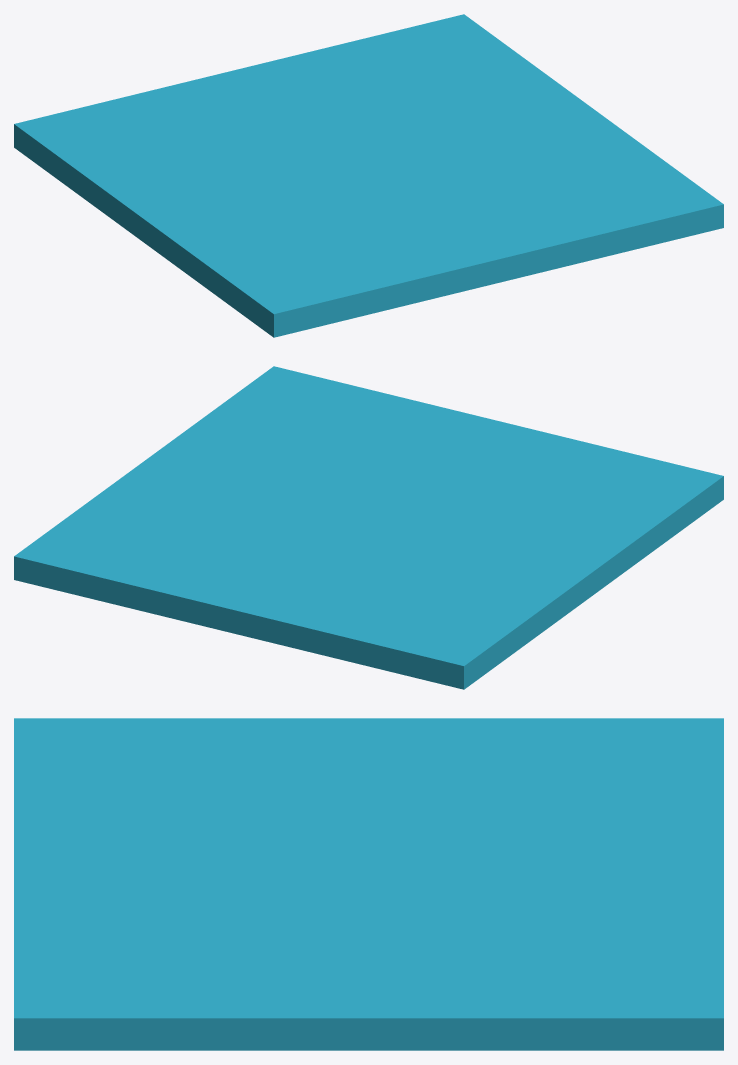
File: GlassWaterFloor.fbx
The picture shows the model from 3 angles, top to bottom: view 1: azimuth 30°, elevation 25°; view 2: azimuth 150°, elevation 25°; view 3: azimuth 270°, elevation 25°; orthographic projection. The views are drawn at different scales.
Visible parts, largest first — view 1: GlassWaterFloor_Complete; view 2: GlassWaterFloor_Complete; view 3: GlassWaterFloor_Complete.
Part boxes in pixels (bbox=[...]): GlassWaterFloor_Complete: bbox=[14, 14, 723, 337]; GlassWaterFloor_Complete: bbox=[14, 366, 723, 689]; GlassWaterFloor_Complete: bbox=[14, 718, 723, 1050].
Size of the model in its own units: 400 by 20 by 400.
